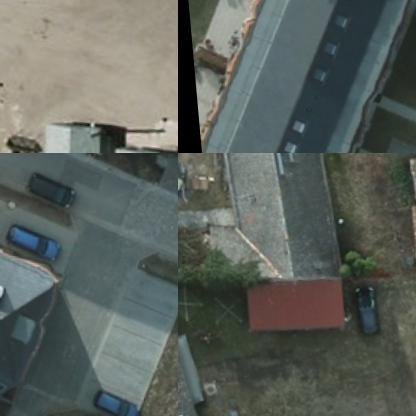car: (344, 284, 382, 338), (3, 225, 56, 259), (81, 384, 138, 415), (22, 172, 76, 204)
